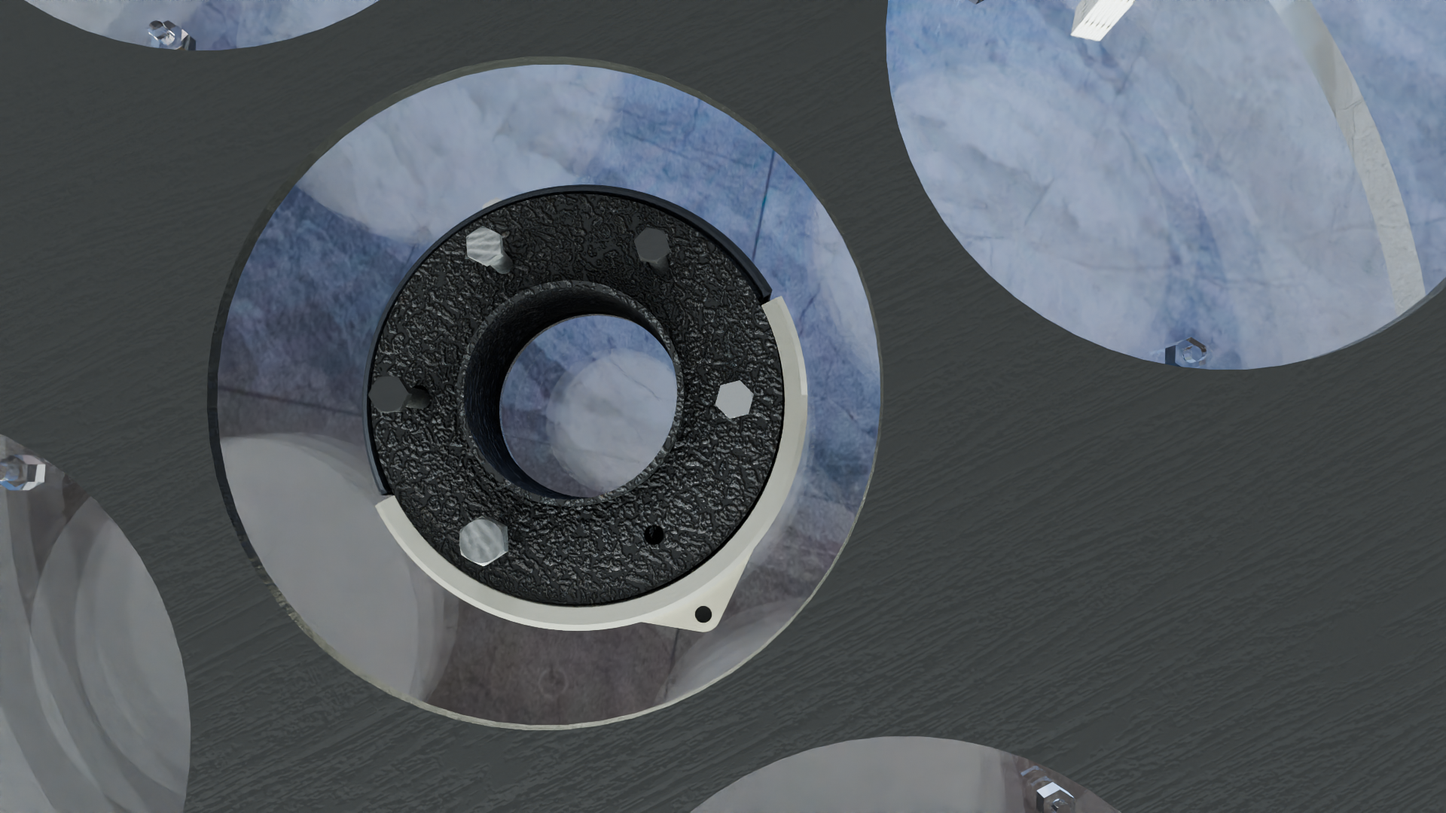bolt: (459, 516, 505, 566), (715, 380, 754, 419), (368, 376, 408, 412), (466, 226, 501, 264), (634, 227, 670, 262)
